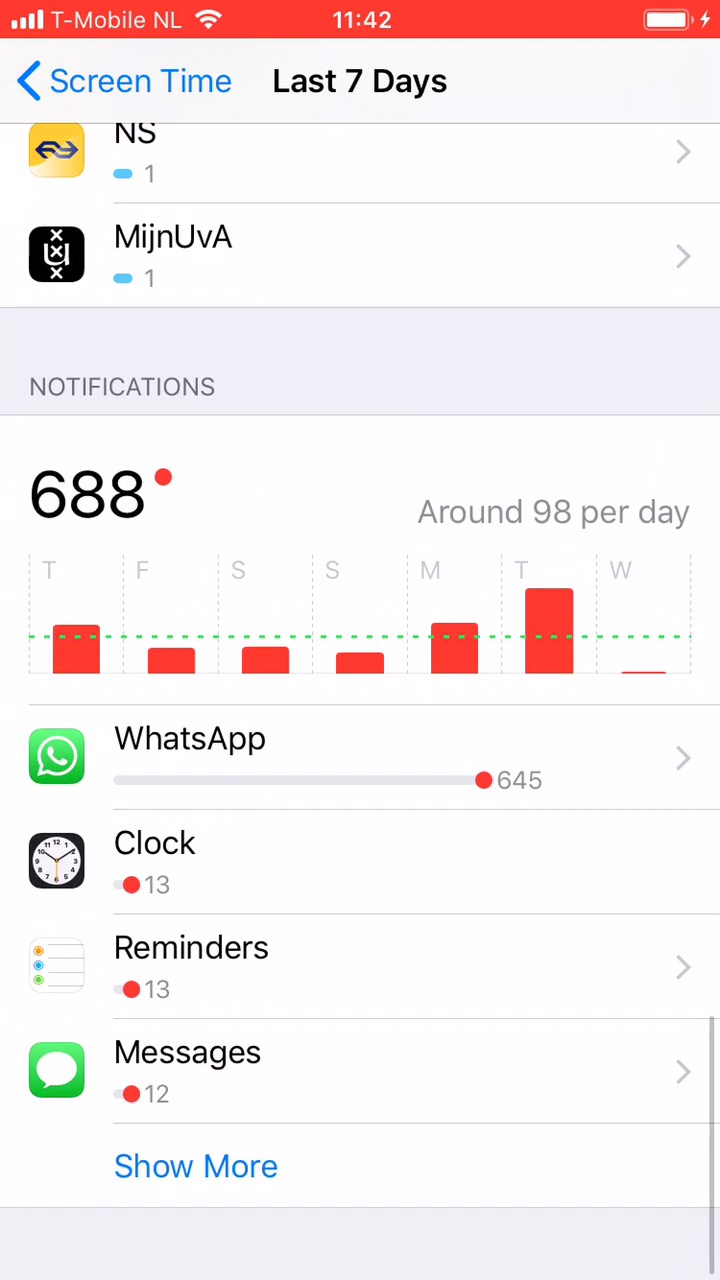not_app: (23, 705, 589, 810), (26, 916, 381, 1019), (28, 1024, 389, 1121), (25, 814, 351, 914)
not_over: (12, 339, 295, 538)
pick_app: (26, 208, 398, 300)
week: (262, 65, 473, 105)
